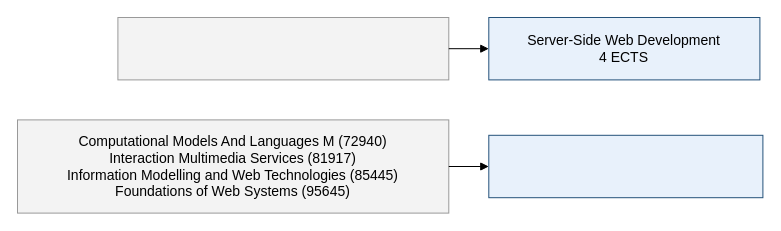
Some shapes in this 781 by 231 pixel diagram are drawn without their labels. Each missing label, with the box of its shape:
Web Development Foundations 4 ECTS: (488, 134, 763, 198)
Web Services and Applications (69867) Web Technology (88566): (117, 16, 449, 80)
